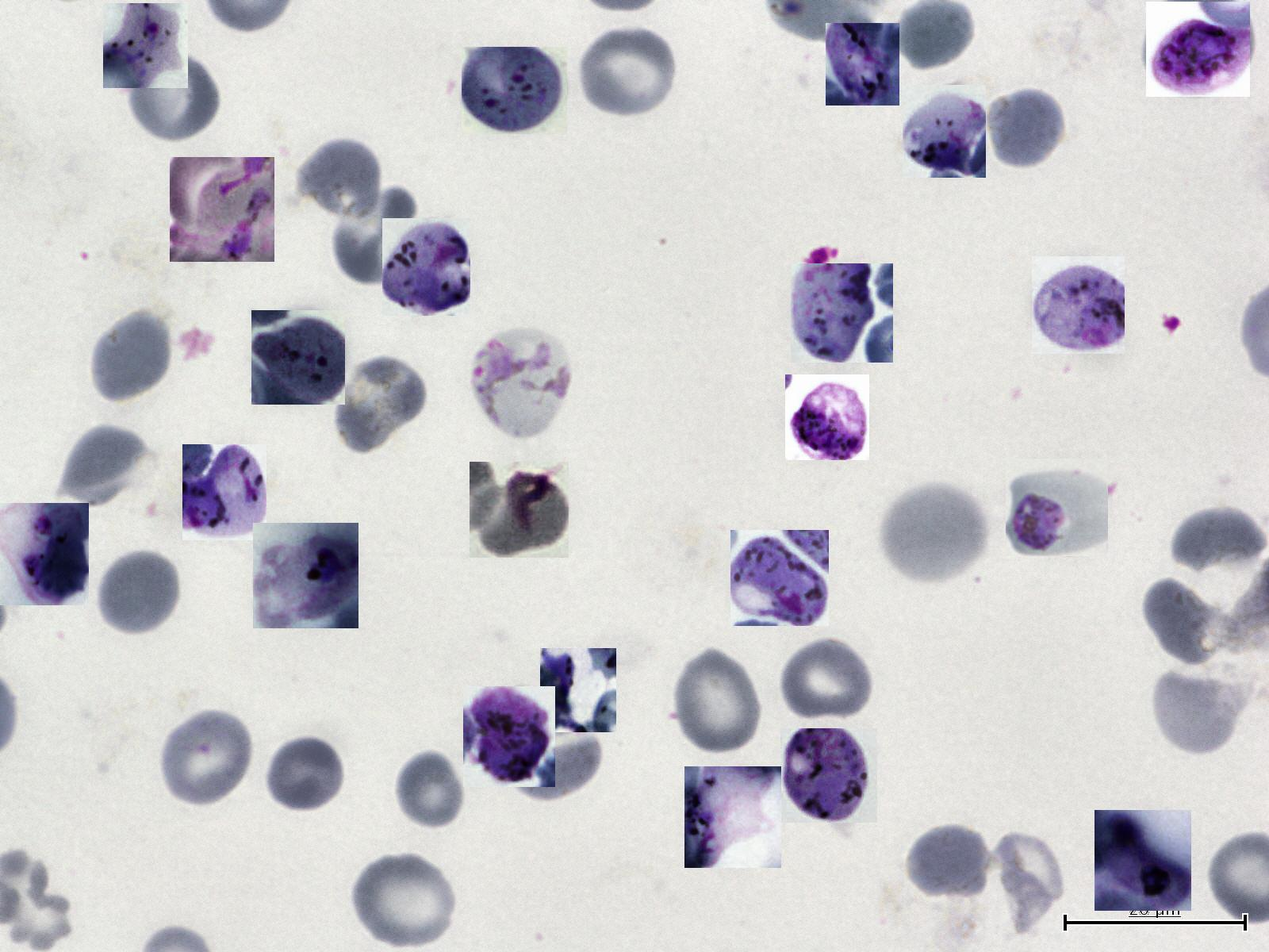Infected: (470, 327, 571, 439), (253, 523, 358, 628), (170, 157, 274, 262), (791, 263, 893, 363), (1006, 459, 1108, 557), (684, 766, 781, 868), (1146, 2, 1250, 97), (1095, 810, 1191, 911), (730, 530, 829, 626), (470, 462, 569, 558), (463, 686, 555, 787), (462, 47, 567, 134), (780, 729, 877, 823), (1032, 256, 1125, 354), (0, 503, 89, 605), (251, 310, 345, 405), (382, 218, 470, 316), (182, 444, 266, 540), (903, 85, 986, 178), (103, 3, 188, 88), (785, 374, 869, 460), (540, 648, 616, 732), (826, 23, 899, 106)
Uninfected: (577, 22, 681, 121), (352, 852, 456, 951), (879, 486, 984, 583), (158, 707, 255, 810), (334, 359, 432, 458), (328, 186, 420, 291), (671, 651, 763, 755), (127, 48, 222, 144), (56, 419, 151, 512), (778, 635, 874, 725), (1138, 578, 1233, 668), (87, 309, 174, 405), (294, 135, 385, 225), (95, 547, 182, 637), (987, 831, 1069, 925), (1151, 676, 1242, 757), (903, 822, 992, 904), (983, 86, 1067, 170), (263, 733, 347, 814), (1164, 505, 1267, 570), (393, 749, 468, 831), (516, 736, 602, 800)
